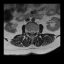CCS_stenosis: (31, 29, 33, 37)
LFS_normal: (34, 29, 36, 35)
LLS_normal: (33, 29, 34, 35)
RFS_normal: (28, 29, 29, 34)
RLS_normal: (29, 29, 31, 35)
